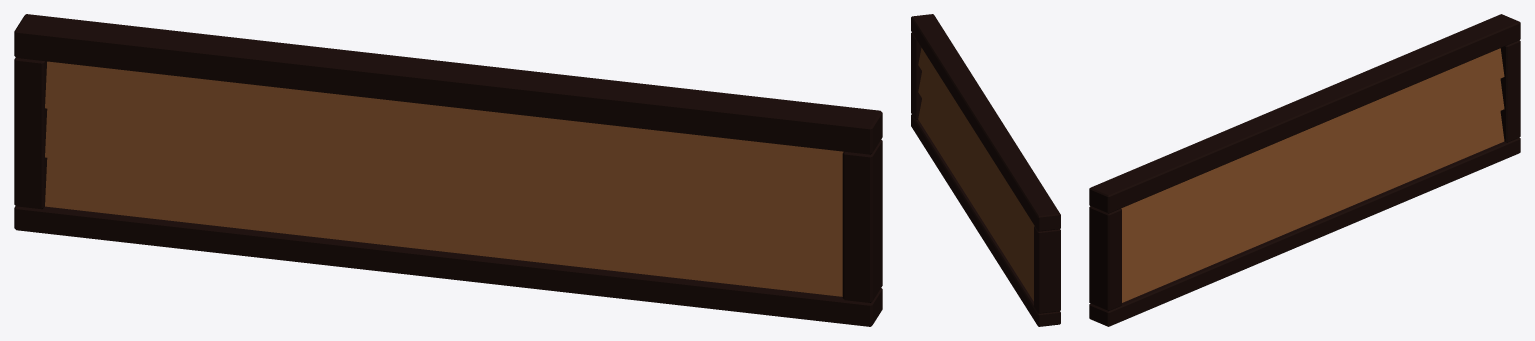
File: ww_sign_f.glb
3 views of the same model, side by side, from view 1: azimuth 30°, elevation 25°; view 2: azimuth 150°, elevation 25°; view 3: azimuth 270°, elevation 25° (orthographic). The views are drawn at different scales.
Parts seen in each view (by area): view 1: Sign_F; view 2: Sign_F; view 3: Sign_F.
Part boxes in pixels (x1,y1,x2,y2): Sign_F: (14,14,882,326); Sign_F: (911,14,1060,326); Sign_F: (1089,14,1520,326).
Size of the model in its own units: 5.33 by 1.8 by 5.33.
